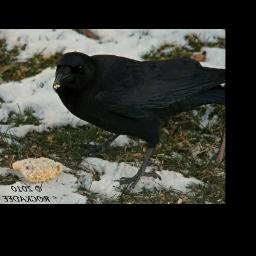Crow: (52, 51, 225, 188)
